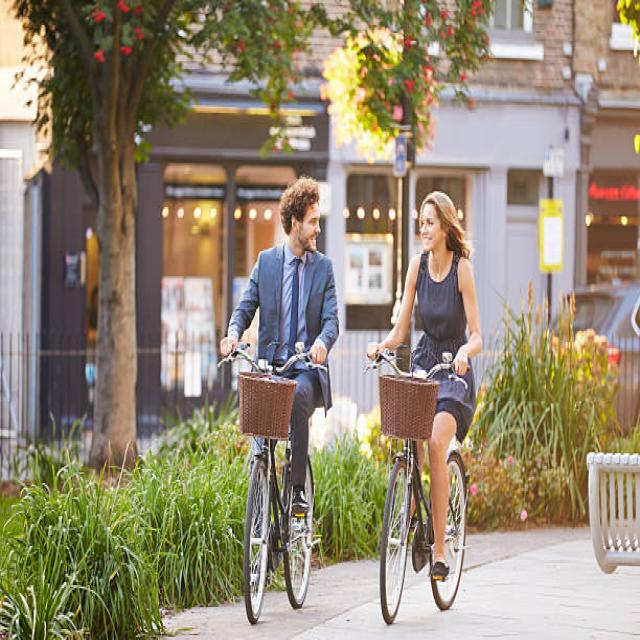bicycle: (220, 178, 339, 623), (368, 193, 482, 623)
